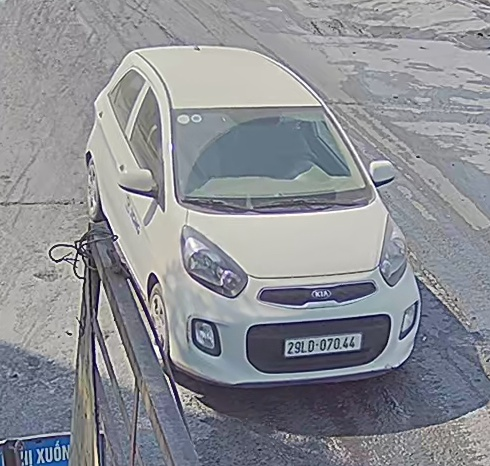vehicle plate: (278, 332, 365, 355)
